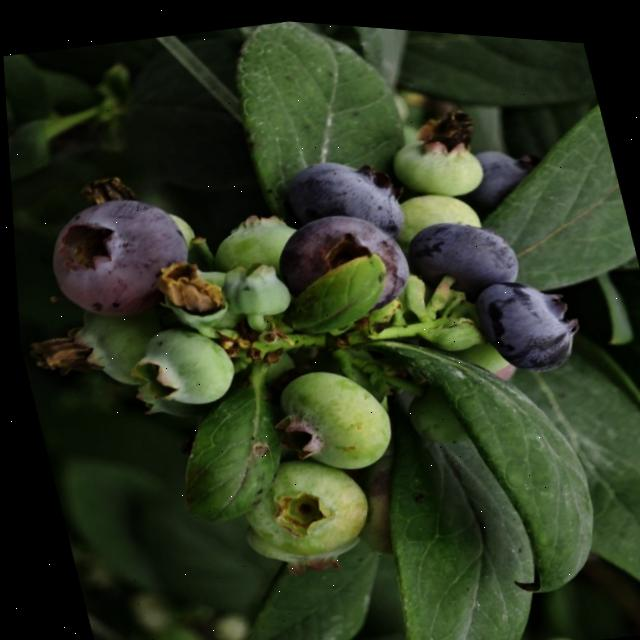RipeBlueBerry: (29, 179, 202, 334), (463, 259, 588, 379), (271, 139, 408, 248), (399, 200, 524, 297)
UnripeBlueBerry: (228, 439, 377, 570), (257, 350, 398, 480)
